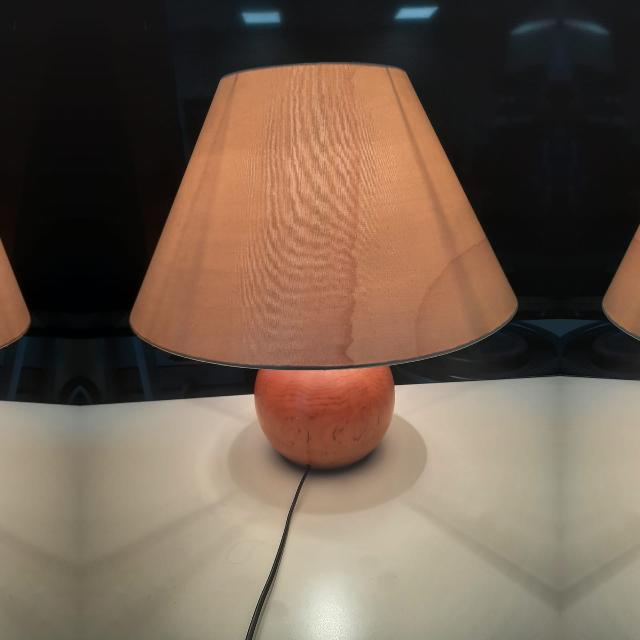lamp: (128, 62, 519, 472)
